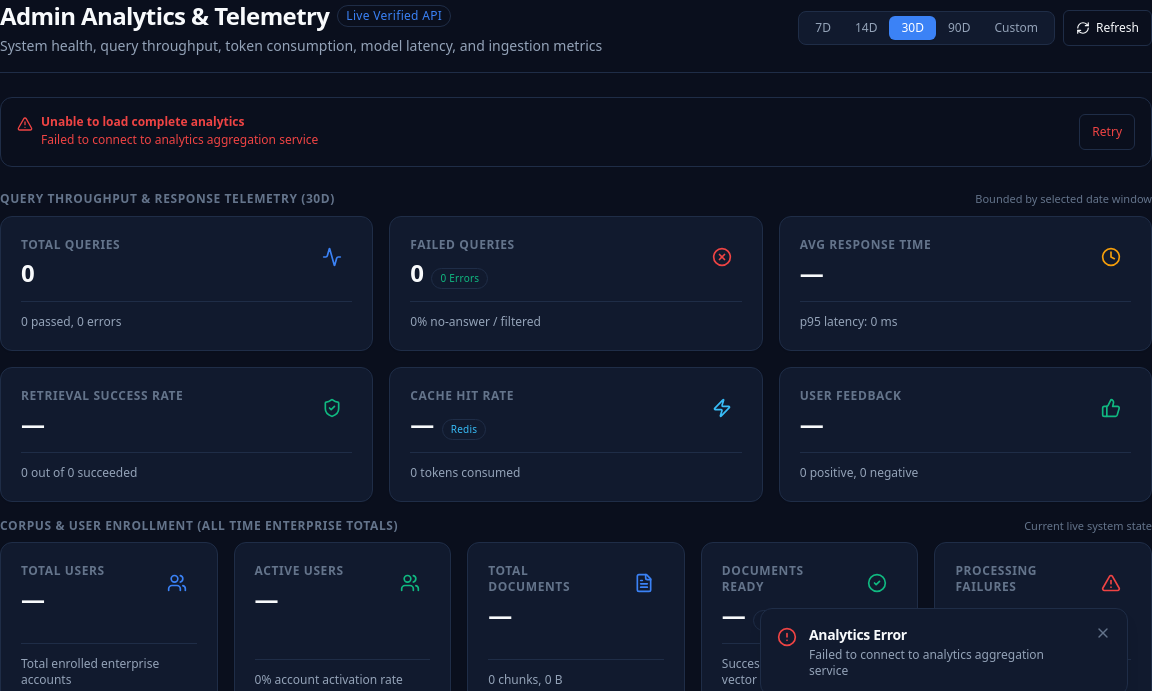
Admin Analytics & Telemetry Dashboard › 4. Error Handling and Retry State › renders actionable error banner with retry button when API fails
Expected: the text "Unable to load complete analytics" is shown, left=41, top=113, right=244, bottom=130
Step 1. Click the button "Retry" → (1107, 132), box left=1079, top=114, right=1135, bottom=150
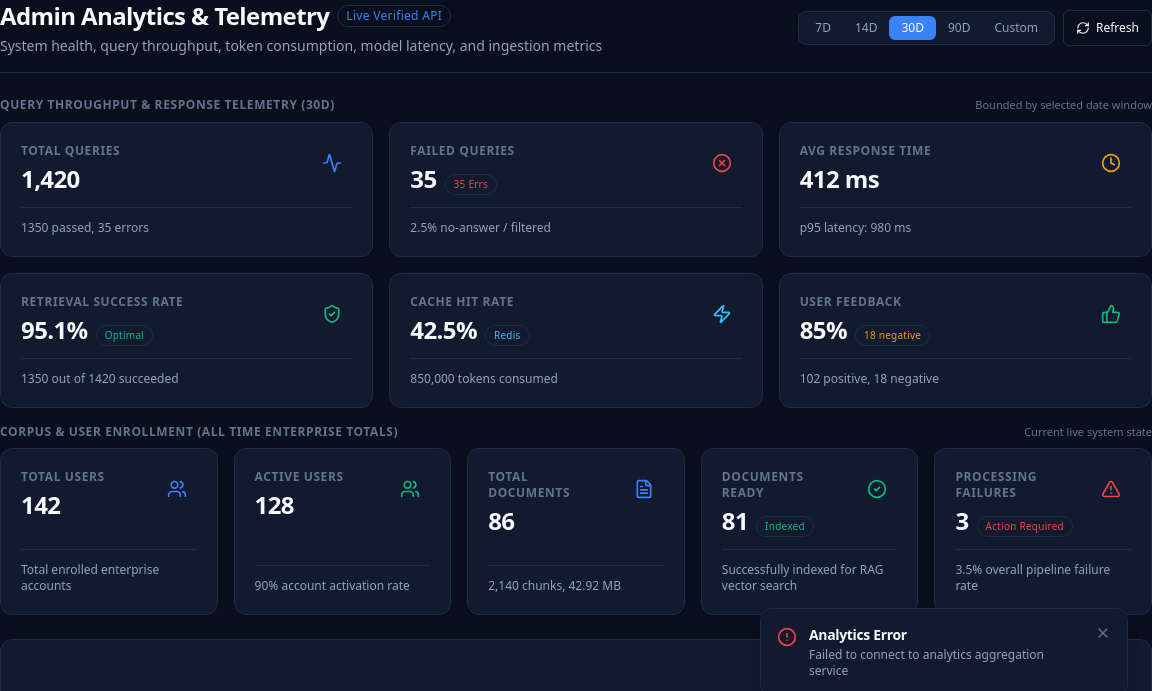
Expected: the text "Unable to load complete analytics" is gone
